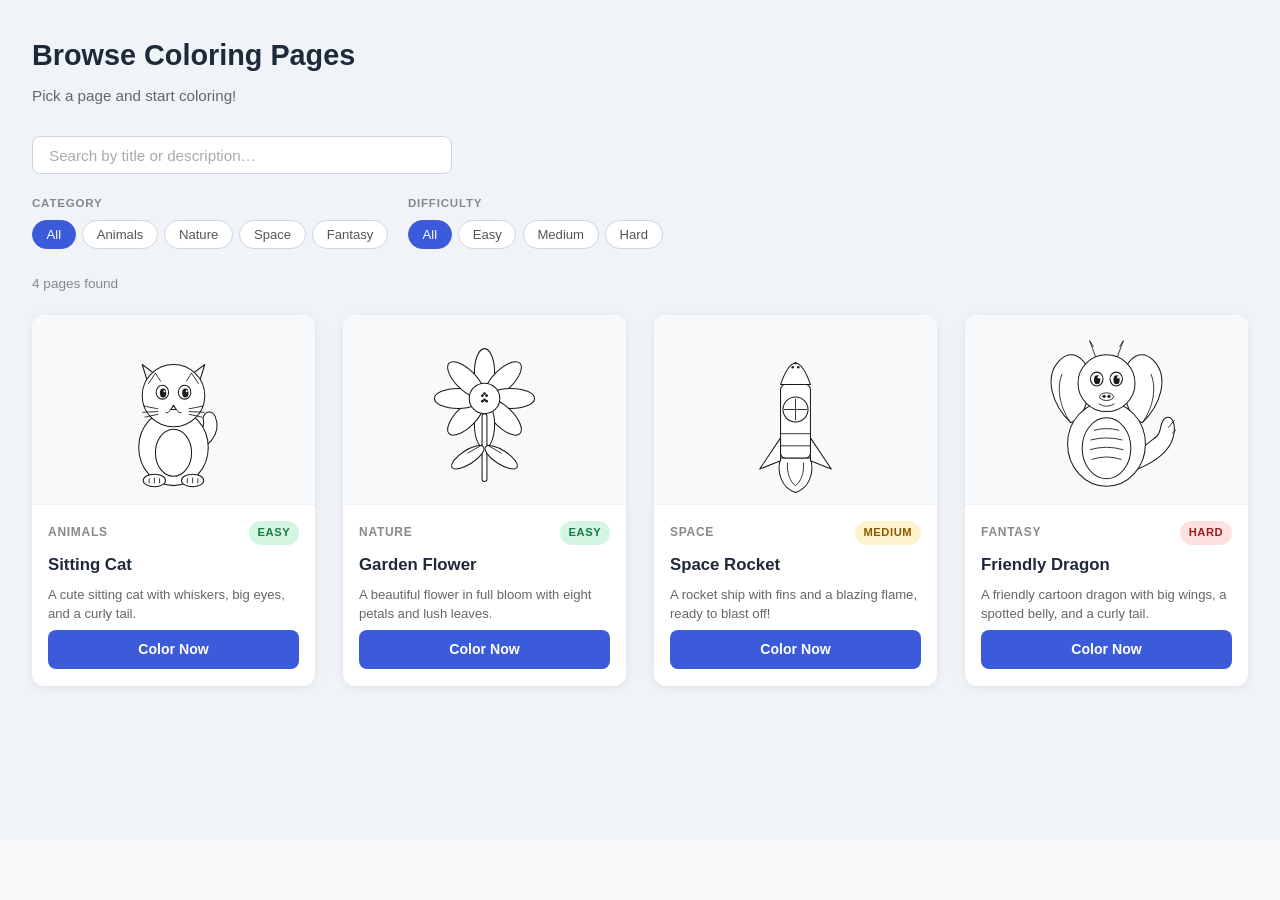
Test: Browse Page Filter & Search Tests › filters pages dynamically using search query
This screenshot has width=1280, height=900.
In the search field named "search coloring pages": (242, 155) [32,136,452,174], type "rocket"
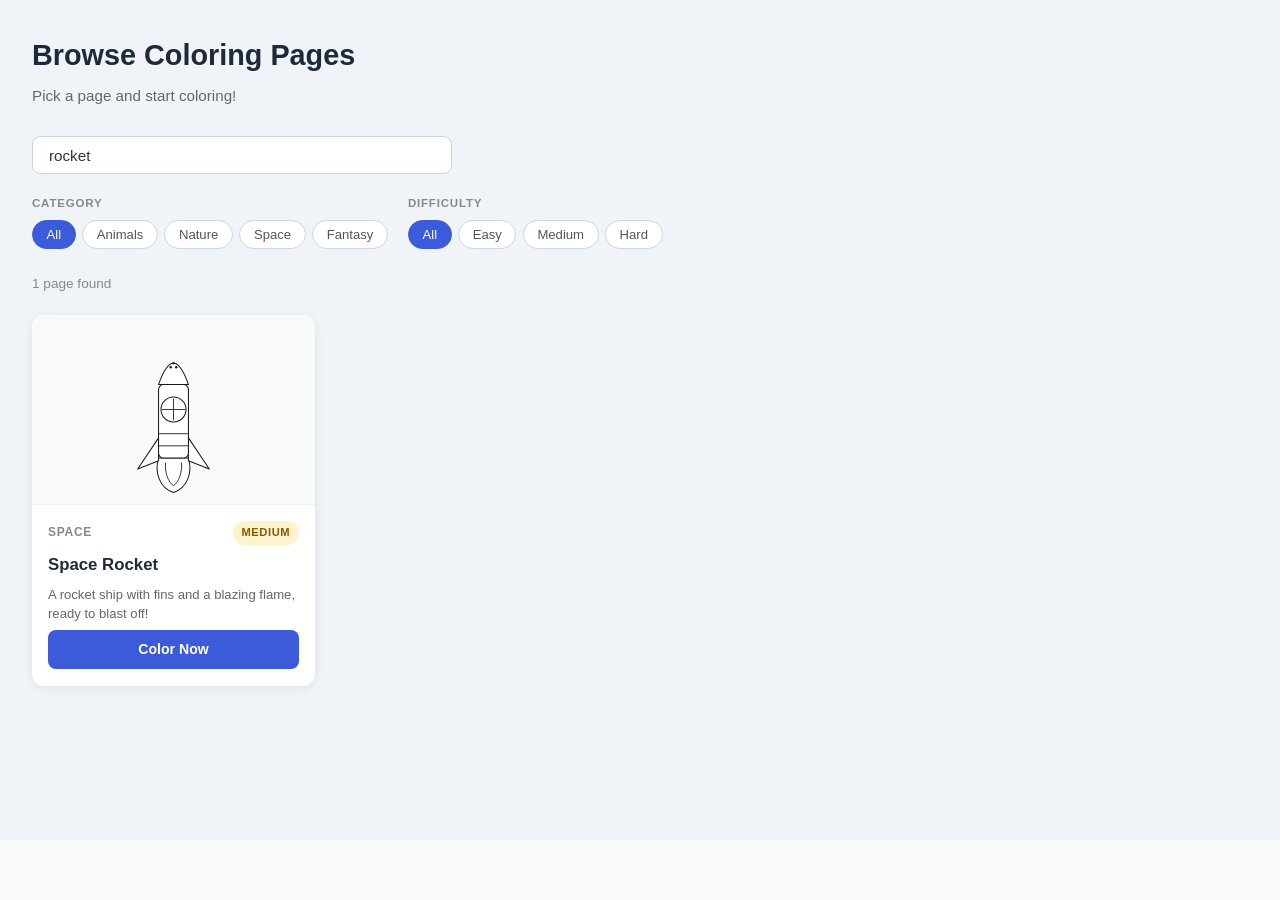
Now the heading "Sitting Cat" is gone
Now the heading "Garden Flower" is gone
Now the text "1 page found" is shown, box [32,276,111,291]
